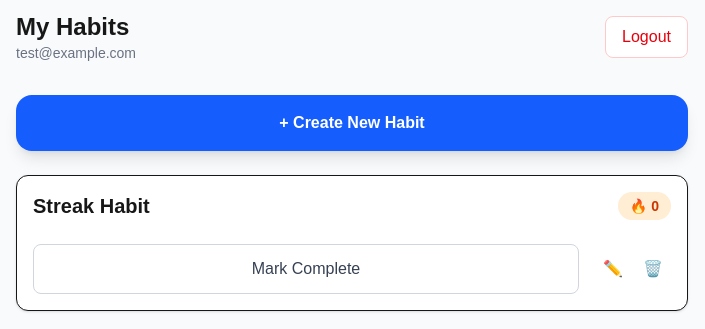
Test: habit form › toggles completion and updates the streak display
Expected: the text with test id "habit-streak-streak-habit" shows "0", [651,198,659,214]
Click the button with test id "habit-complete-streak-habit": [306, 269] box [33,244,579,294]
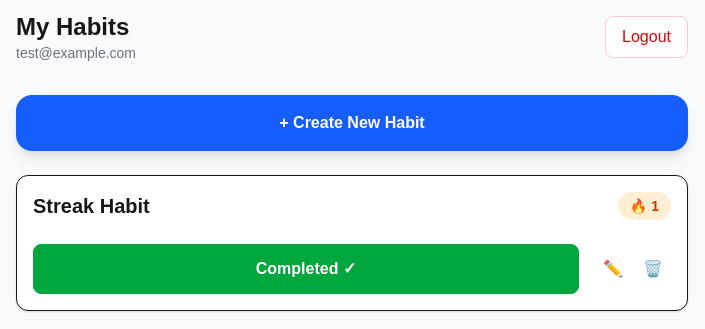
Expected: the text with test id "habit-streak-streak-habit" shows "1", [651,198,659,214]
